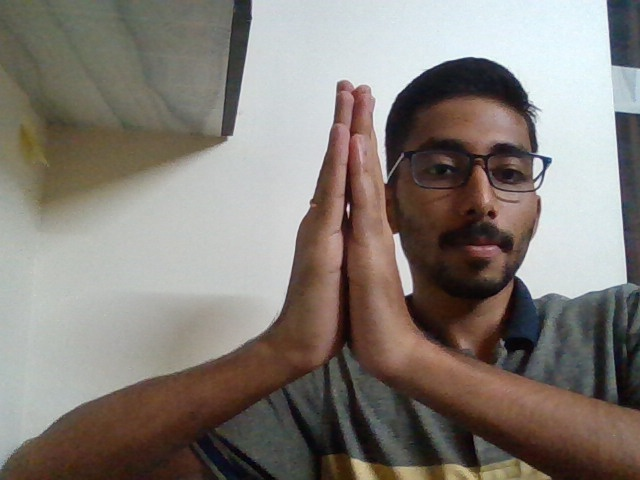Thank You: (262, 68, 439, 425)
